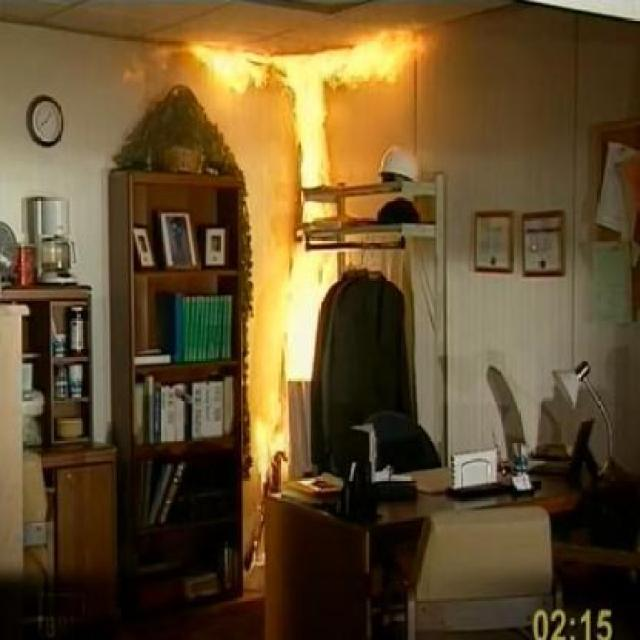Fire: (196, 44, 302, 98), (293, 50, 329, 187), (288, 248, 316, 380), (330, 32, 392, 88), (252, 412, 278, 474), (303, 198, 339, 220), (318, 253, 337, 287)
